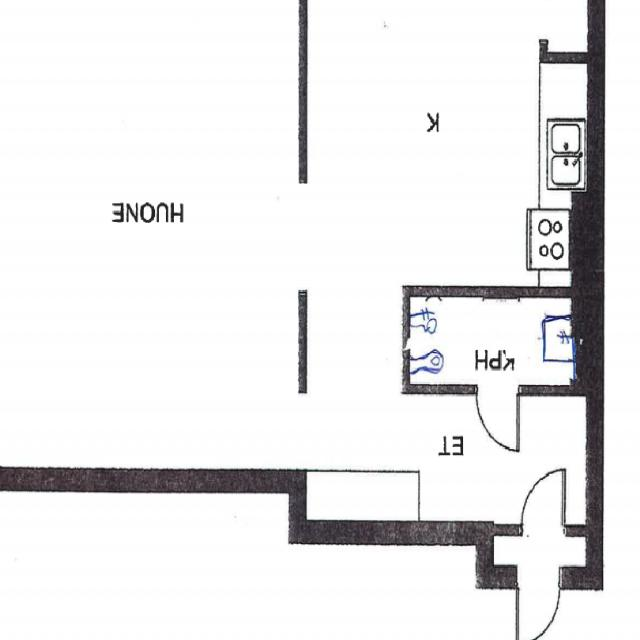door: (516, 566, 559, 640), (521, 468, 564, 536), (476, 383, 518, 451)
